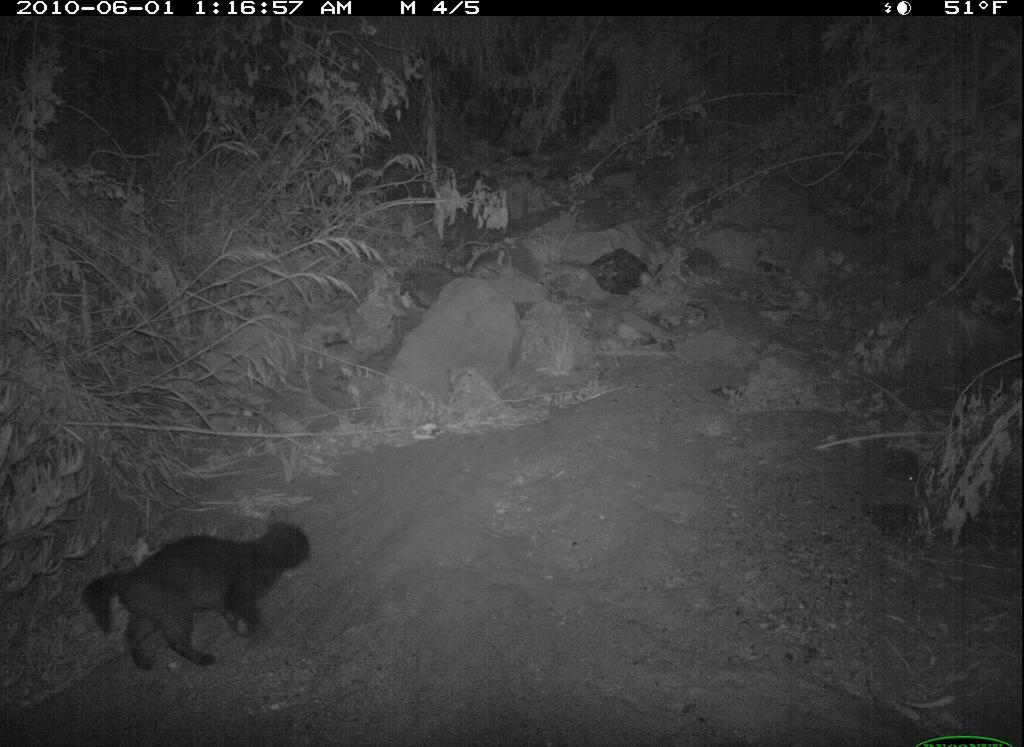cat: (79, 507, 318, 688)
